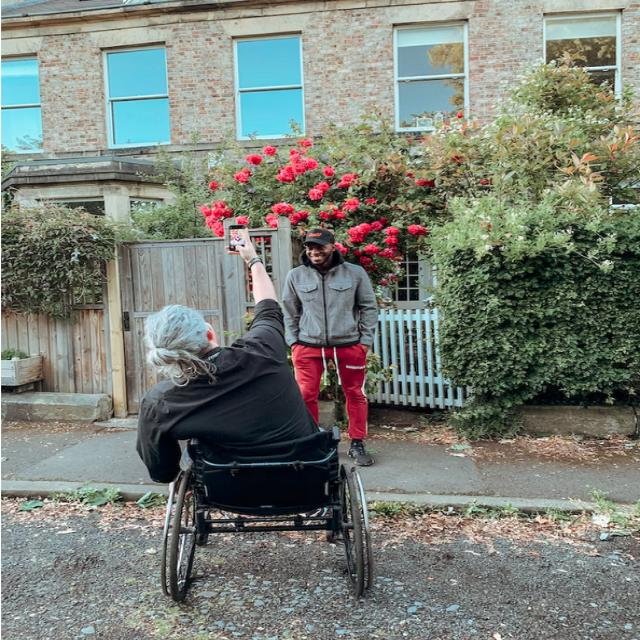wheelchairs: (154, 423, 381, 602)
